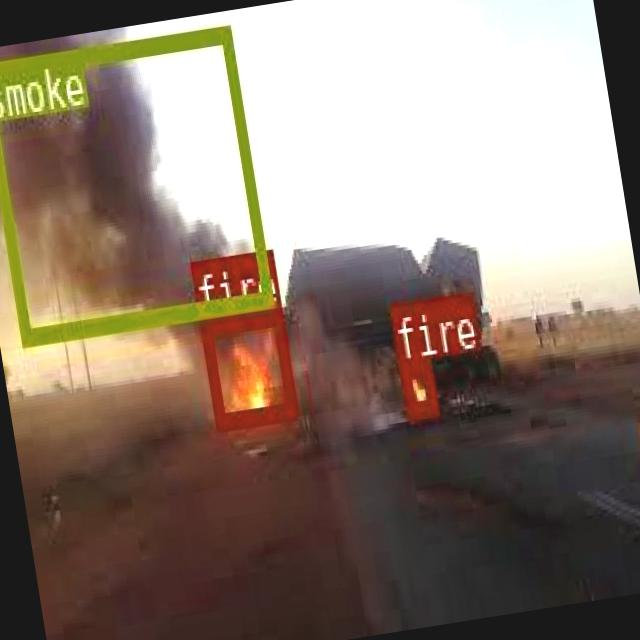fire: (199, 307, 297, 429), (398, 358, 437, 416)
smoke: (0, 24, 272, 343)
